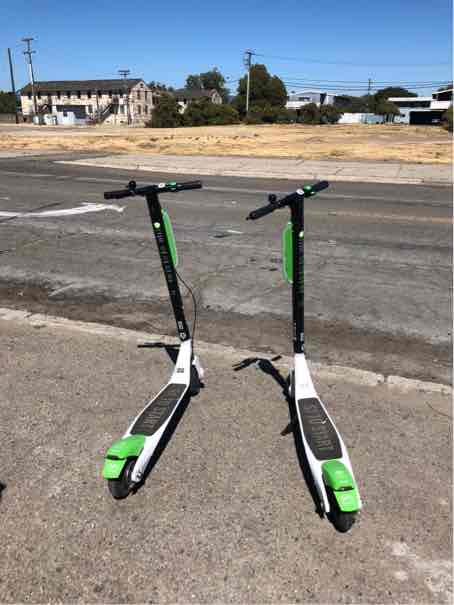scooter: (236, 178, 364, 538), (80, 187, 215, 502)
